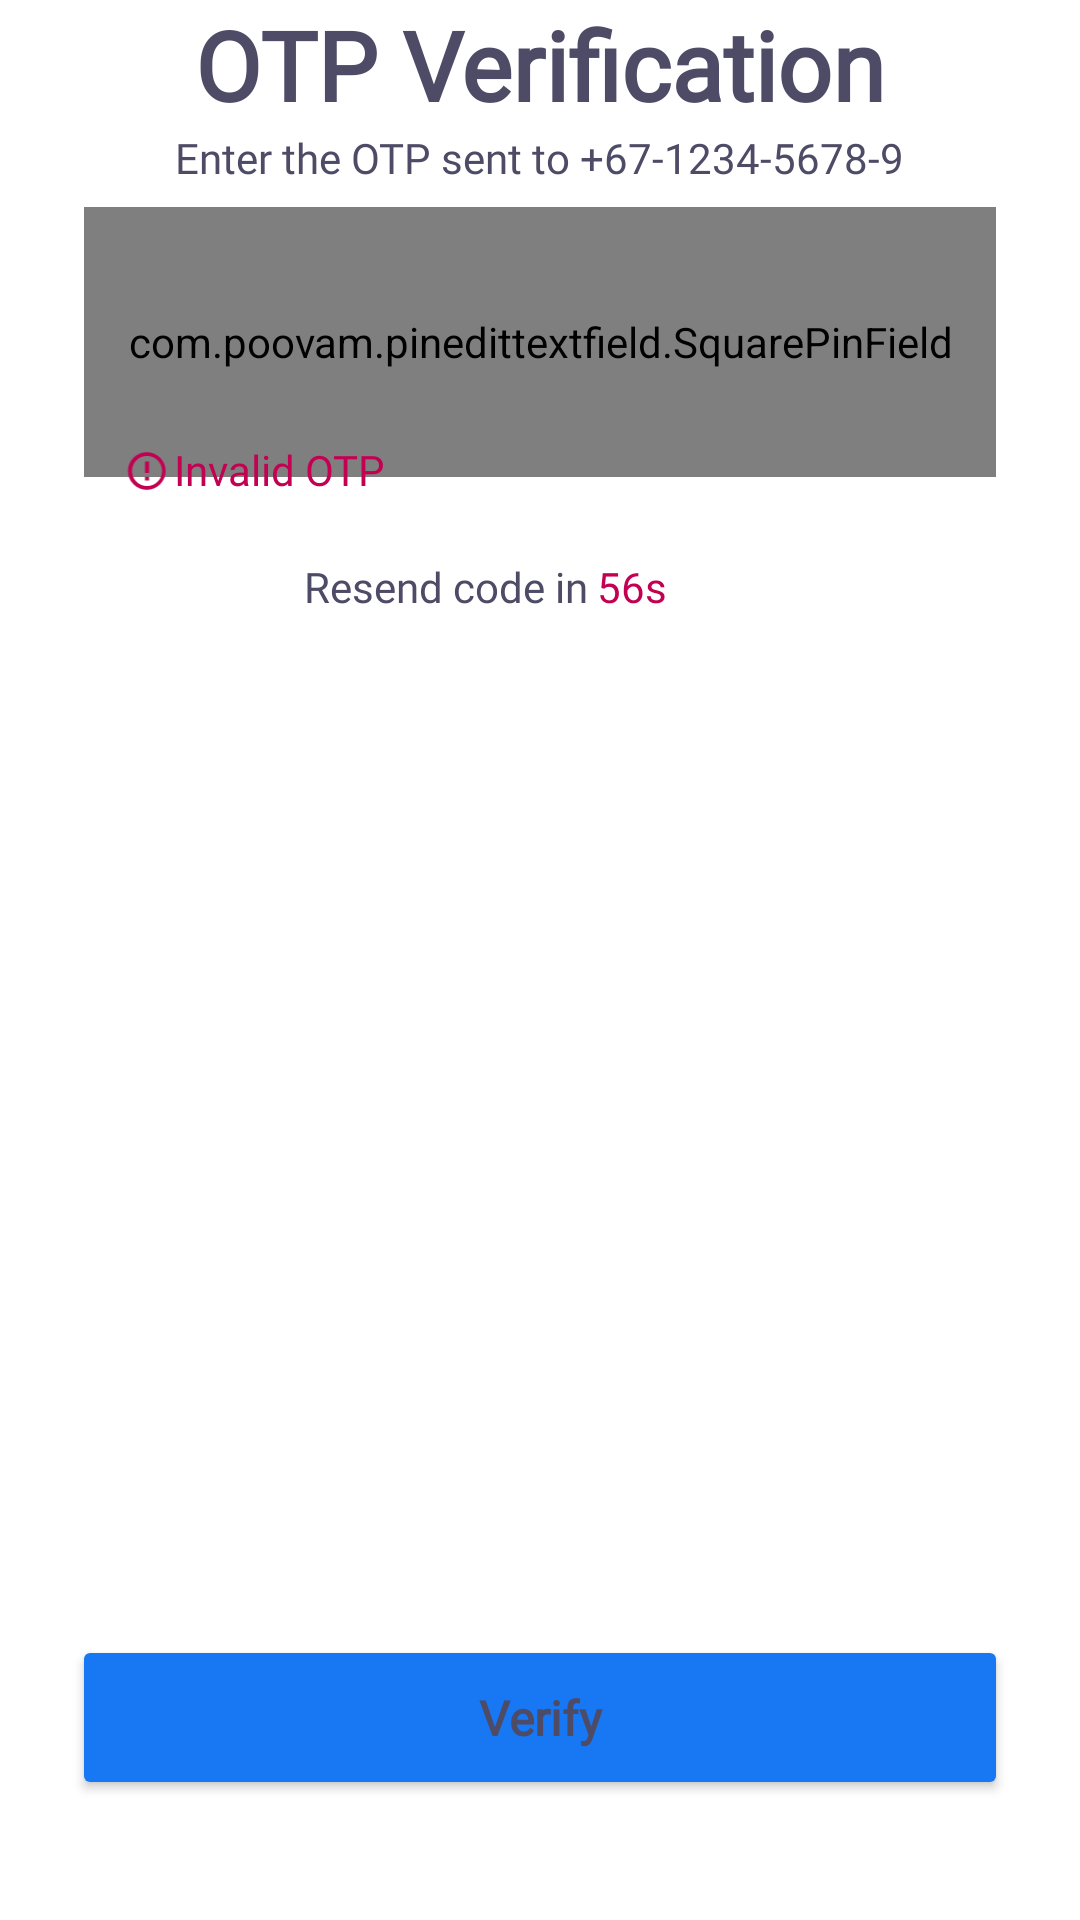

Point at icon controls on the screen. Image size 1080px×1920px, points as [x,y].
attention: [147,471]
